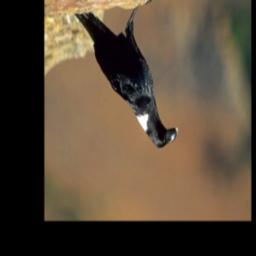Crow: (74, 0, 179, 150)
